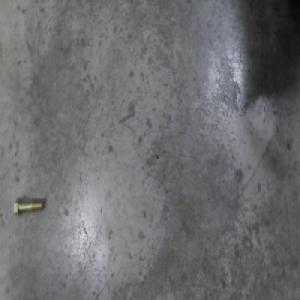Bolt: (15, 196, 44, 218)
